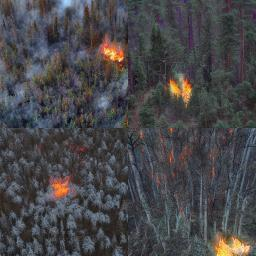Small fire: (100, 39, 128, 67), (215, 236, 252, 256), (168, 78, 195, 102), (50, 178, 70, 197)
